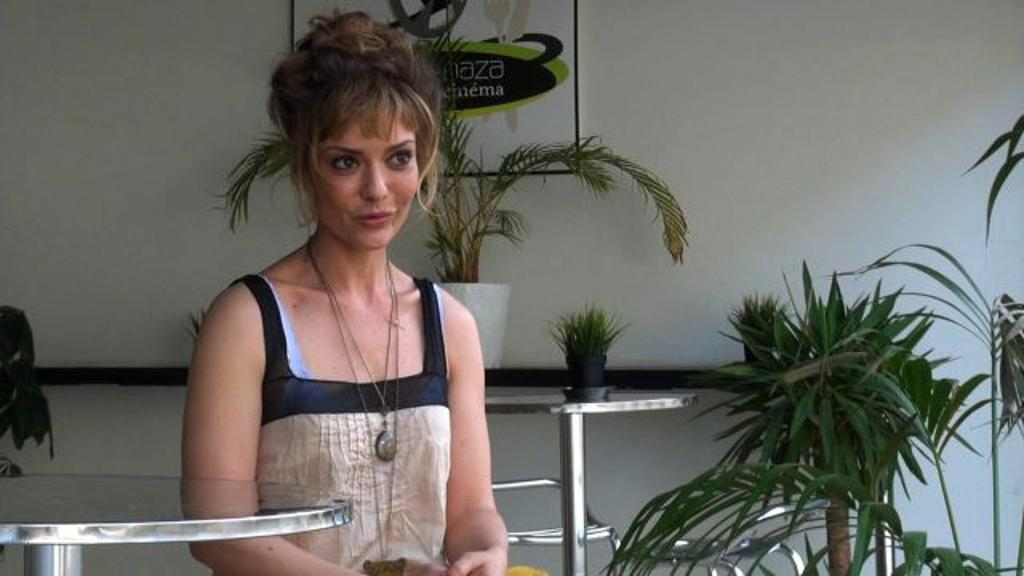face: (310, 94, 420, 250)
